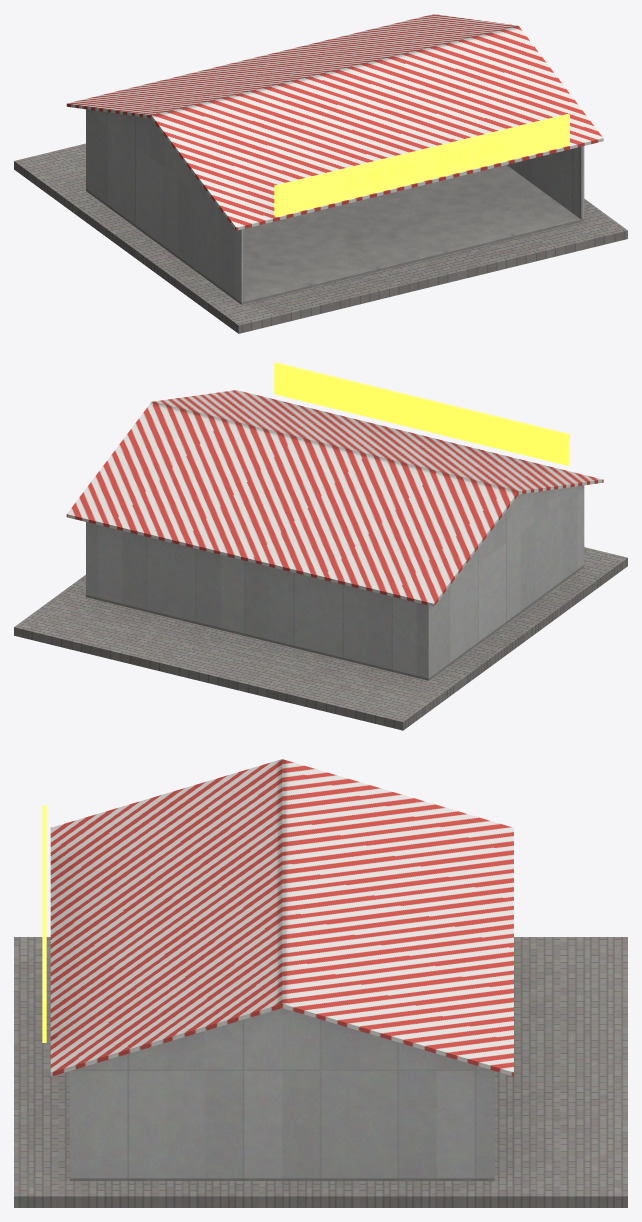
The model's file is IlsanGrill01_LOD2.fbx.
3 renders of one model, top to bottom at view 1: azimuth 30°, elevation 25°; view 2: azimuth 150°, elevation 25°; view 3: azimuth 270°, elevation 25°, orthographic. The views are drawn at different scales.
Parts seen in each view (by area): view 1: IlsanGrill01_LOD2; view 2: IlsanGrill01_LOD2; view 3: IlsanGrill01_LOD2.
Part boxes in pixels (<box>): IlsanGrill01_LOD2: <box>14,14,627,333</box>; IlsanGrill01_LOD2: <box>14,362,627,730</box>; IlsanGrill01_LOD2: <box>14,759,627,1207</box>.
Size of the model in its own units: 15.9 by 5.62 by 15.9.
Materials: 1 (1 with a texture image).
